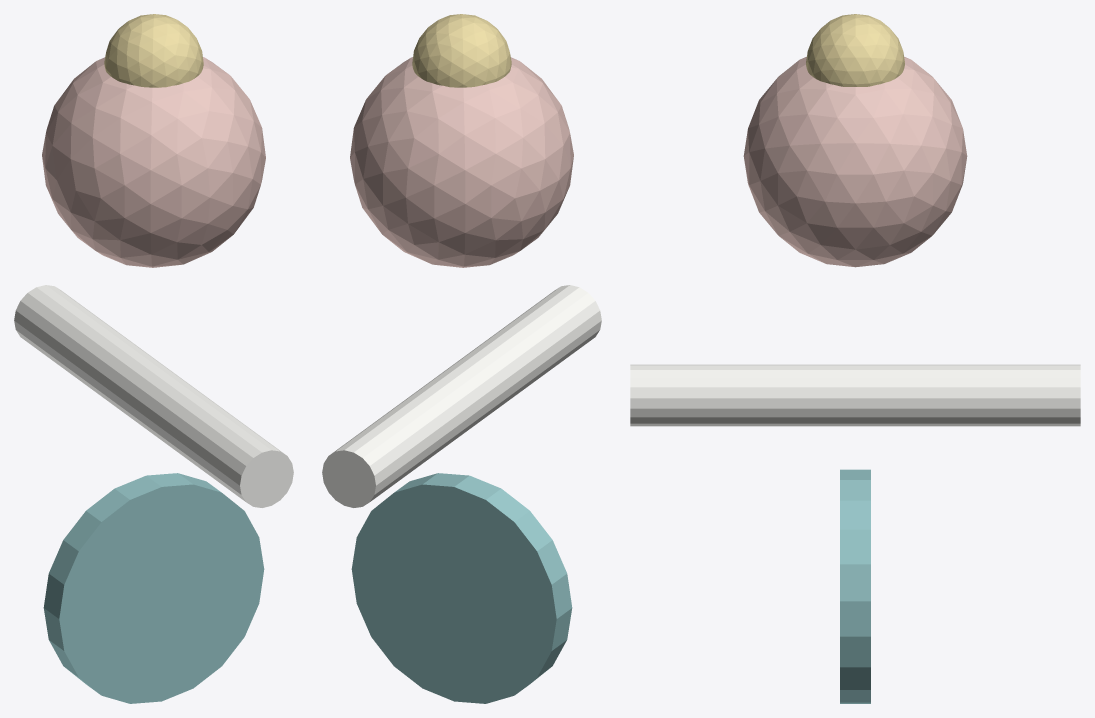
Rendered from candy_floor_lamp.glb.
The picture shows the model from 3 angles, left to right: view 1: azimuth 30°, elevation 25°; view 2: azimuth 150°, elevation 25°; view 3: azimuth 270°, elevation 25°; orthographic projection.
Parts seen in each view (by area): view 1: part_03, part_01, part_00, part_02; view 2: part_03, part_01, part_00, part_02; view 3: part_01, part_00, part_03, part_02.
Part boxes in pixels (left/top/right/bottom): part_03: left=43, top=473, right=264, bottom=703; part_01: left=42, top=57, right=265, bottom=267; part_00: left=14, top=285, right=293, bottom=507; part_02: left=104, top=14, right=203, bottom=87; part_03: left=351, top=473, right=572, bottom=703; part_01: left=350, top=57, right=573, bottom=267; part_00: left=322, top=285, right=601, bottom=507; part_02: left=412, top=14, right=511, bottom=87; part_01: left=743, top=57, right=967, bottom=267; part_00: left=630, top=364, right=1080, bottom=426; part_03: left=840, top=469, right=870, bottom=703; part_02: left=806, top=14, right=904, bottom=86.
Size of the model in its own units: 0.76 by 2.4 by 1.45.
